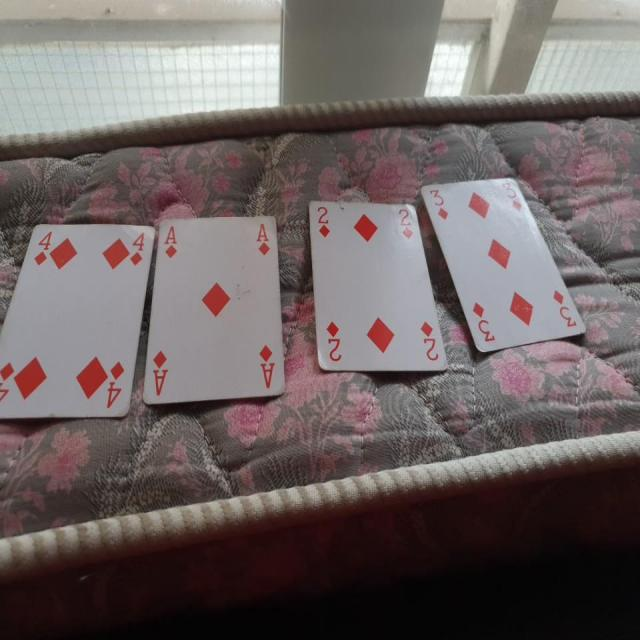2 Diamonds: (308, 194, 450, 373)
3 Diamonds: (419, 174, 590, 353)
4 Diamonds: (1, 214, 158, 422)
A Diamonds: (143, 214, 287, 406)
